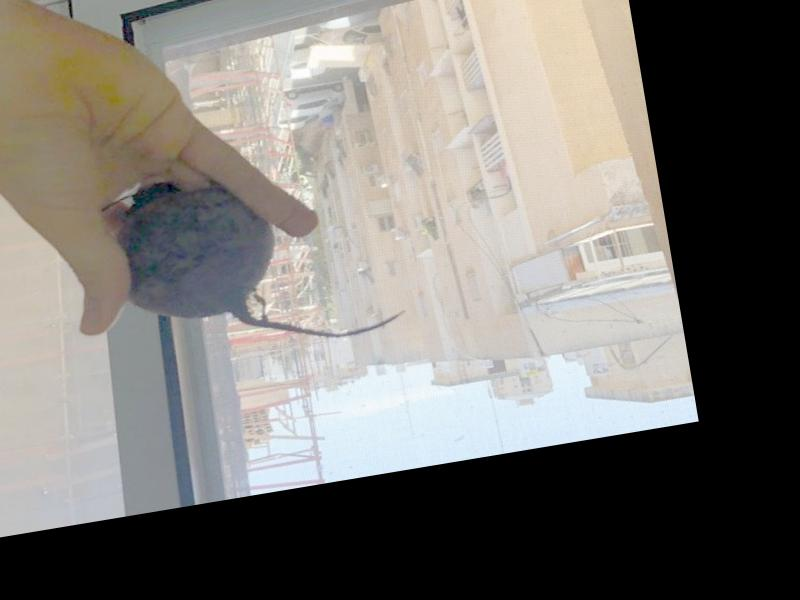Beet: (112, 147, 408, 372)
